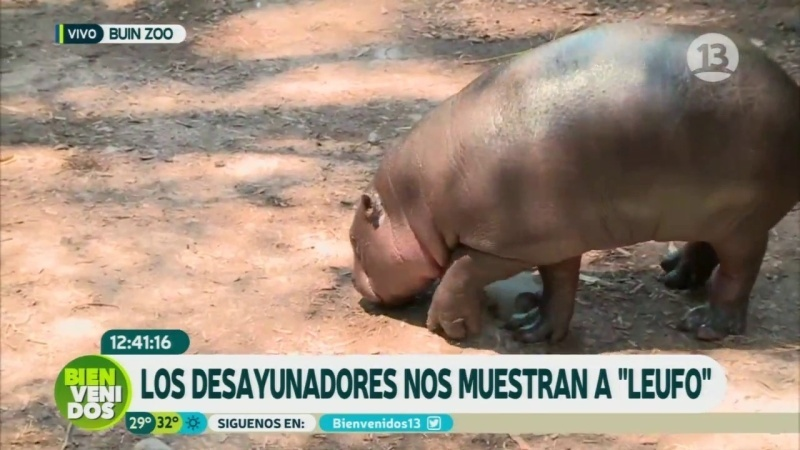hipopotamo: (318, 10, 800, 357)
